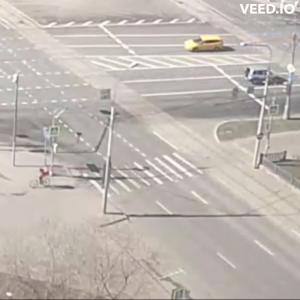car: (187, 35, 227, 56), (247, 68, 270, 86)
